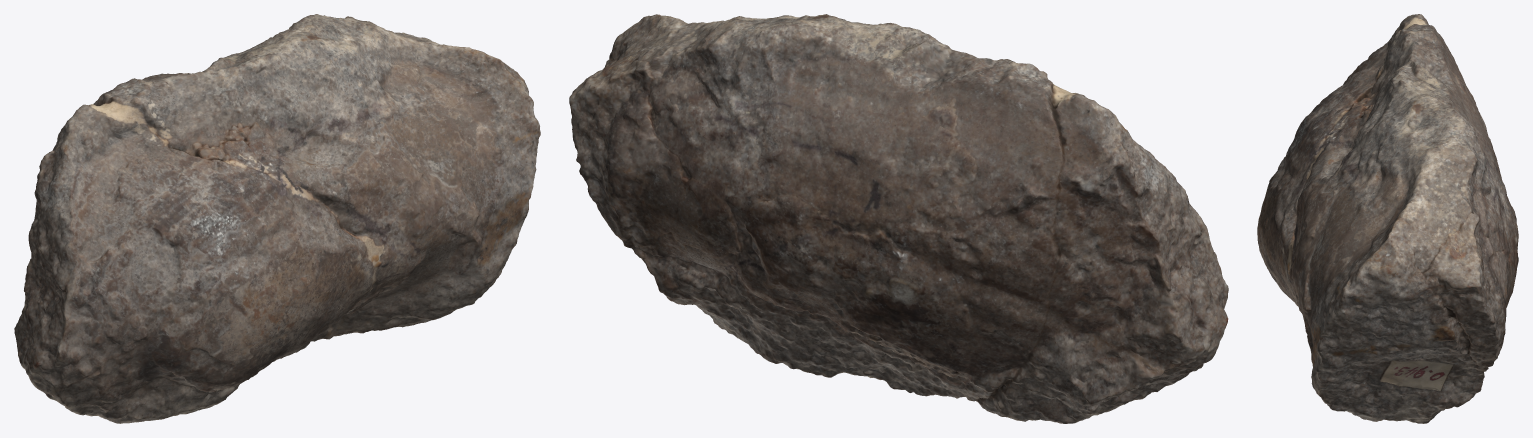
Rendered from EWS0004010.glb.
The picture shows the model from 3 angles, left to right: view 1: azimuth 30°, elevation 25°; view 2: azimuth 150°, elevation 25°; view 3: azimuth 270°, elevation 25°; orthographic projection. The views are drawn at different scales.
Parts seen in each view (by area): view 1: input; view 2: input; view 3: input.
Boxes of the visible parts, bbox=[...] form: input: bbox=[14, 14, 540, 423]; input: bbox=[569, 14, 1228, 423]; input: bbox=[1257, 14, 1518, 423].
Bounding box in the file's own units: 0.128 × 0.0772 × 0.0593.
Materials: 1 (1 with a texture image).
